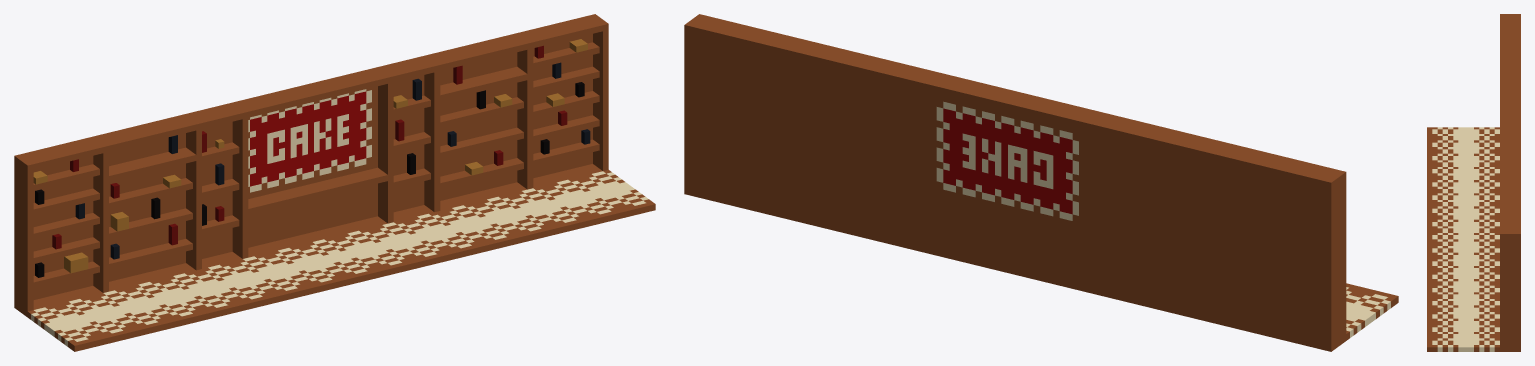
Rendered from SceneBakery.obj.
The picture shows the model from 3 angles, left to right: view 1: azimuth 30°, elevation 25°; view 2: azimuth 150°, elevation 25°; view 3: azimuth 270°, elevation 25°; orthographic projection. The views are drawn at different scales.
Visible parts, largest first — view 1: obj1; view 2: obj1; view 3: obj1.
Part boxes in pixels (x1,y1,x2,y2): obj1: (14, 14, 655, 351); obj1: (684, 14, 1398, 351); obj1: (1427, 14, 1520, 351).
Size of the model in its own units: 0.15 by 0.0375 by 0.027.
